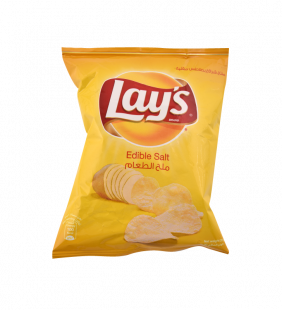LAYS: (48, 42, 233, 263)
